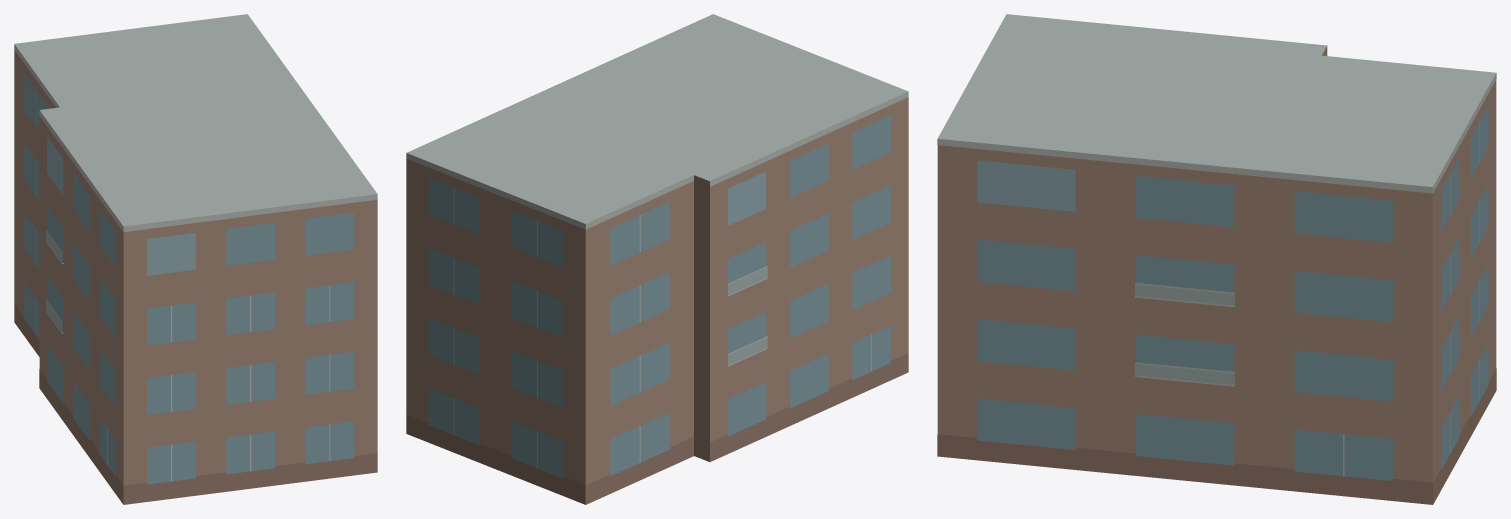
The model's file is survey-upis-32994721.glb.
3 views of the same model, side by side, from view 1: azimuth 30°, elevation 25°; view 2: azimuth 150°, elevation 25°; view 3: azimuth 270°, elevation 25° (orthographic). The views are drawn at different scales.
Visible parts, largest first — view 1: survey-upis-32994721.tmp; view 2: survey-upis-32994721.tmp; view 3: survey-upis-32994721.tmp.
Part boxes in pixels (box(x1,y1,x2,y2)): survey-upis-32994721.tmp: box(14, 14, 377, 504); survey-upis-32994721.tmp: box(406, 14, 908, 504); survey-upis-32994721.tmp: box(937, 14, 1496, 504).
Size of the model in its own units: 14.27 by 12.2 by 19.47.
